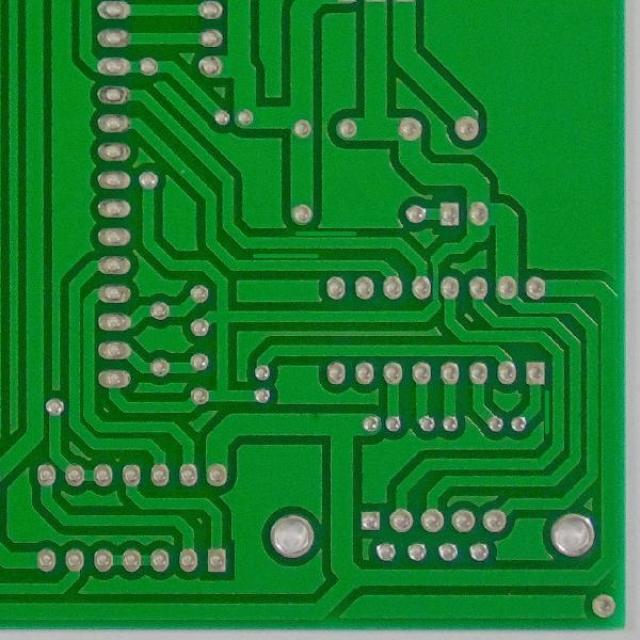spurious_copper: (291, 223, 363, 241), (252, 250, 322, 266), (542, 387, 557, 440)
